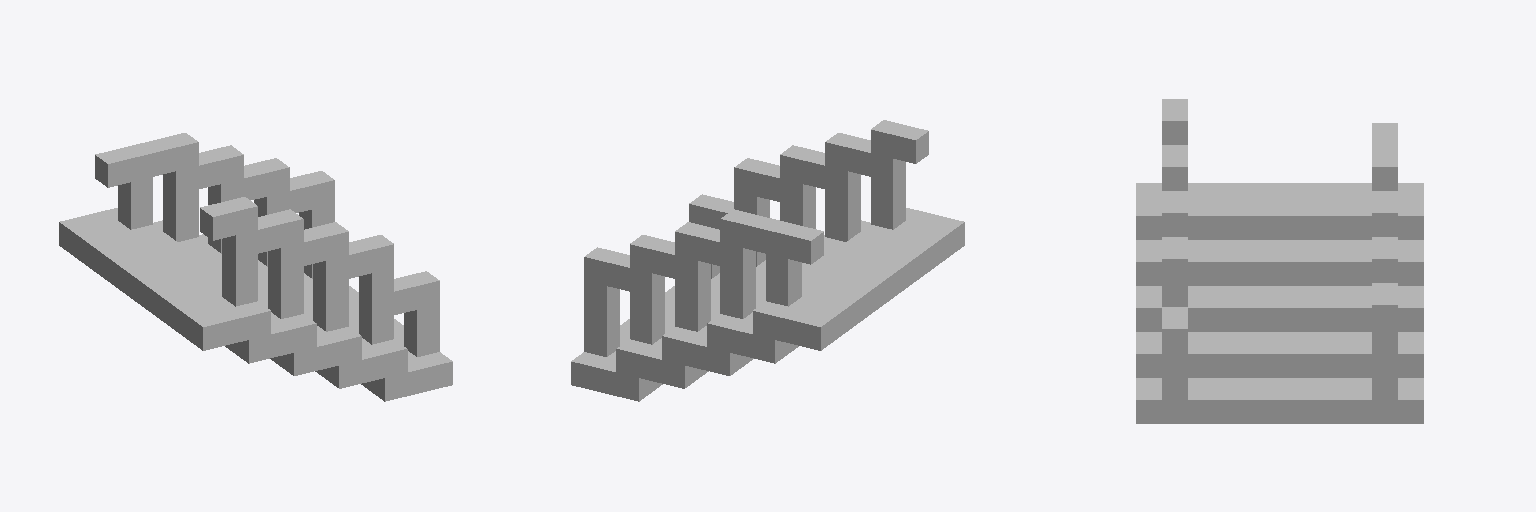
File: WoodenBridge11-1.obj
3 renders of one model, left to right at view 1: azimuth 30°, elevation 25°; view 2: azimuth 150°, elevation 25°; view 3: azimuth 270°, elevation 25°, orthographic.
Parts seen in each view (by area): view 1: object 1; view 2: object 1; view 3: object 1.
Boxes of the visible parts, box(x1,y1,x2,y2) form: object 1: box(59, 133, 452, 401); object 1: box(571, 120, 964, 401); object 1: box(1136, 99, 1423, 423).
Bounding box in the file's own units: 1.1 × 0.9 × 1.1.